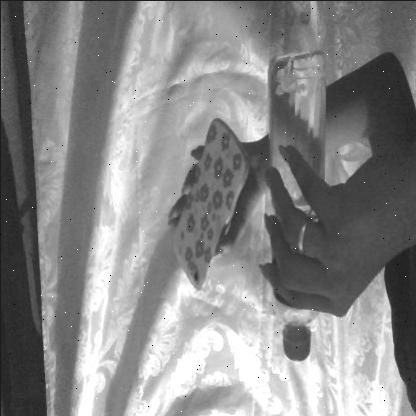Plastic Bottle: (268, 53, 323, 362)
